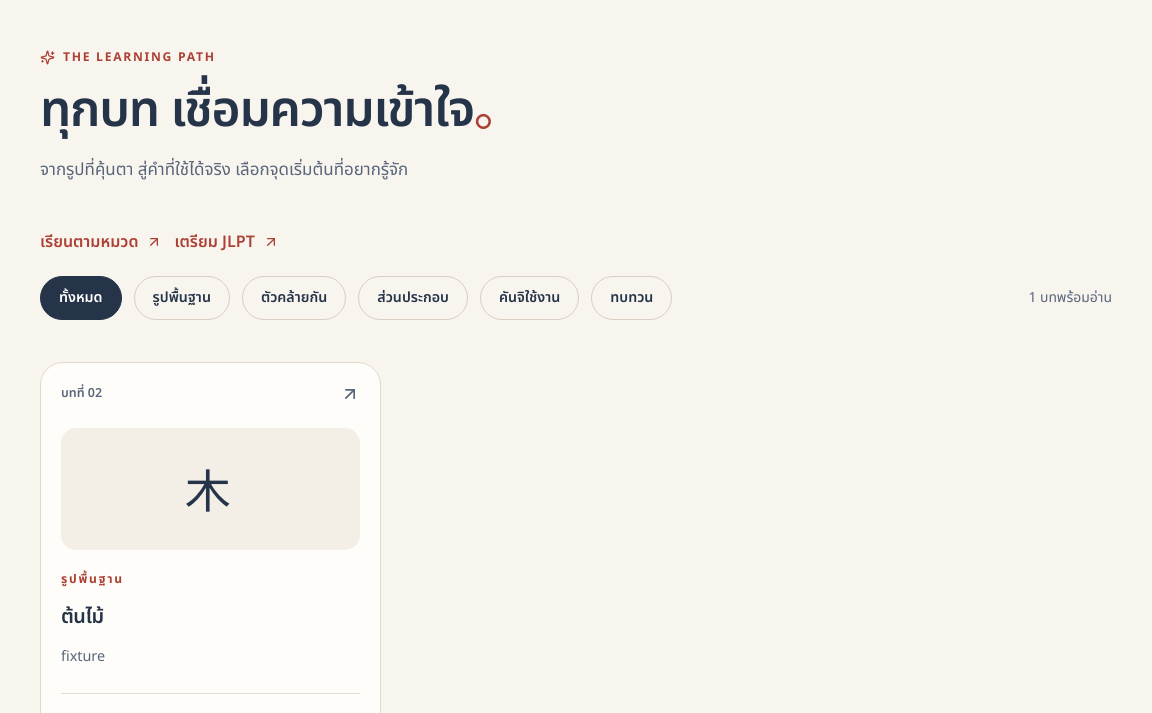
Test: uses the authorized catalog and clears an empty category without exposing review status
Expected: the heading "ต้นไม้" is shown, [61,602,104,632]
Step 1. Click the button "ทบทวน" → (632, 298), box [591,276,672,320]
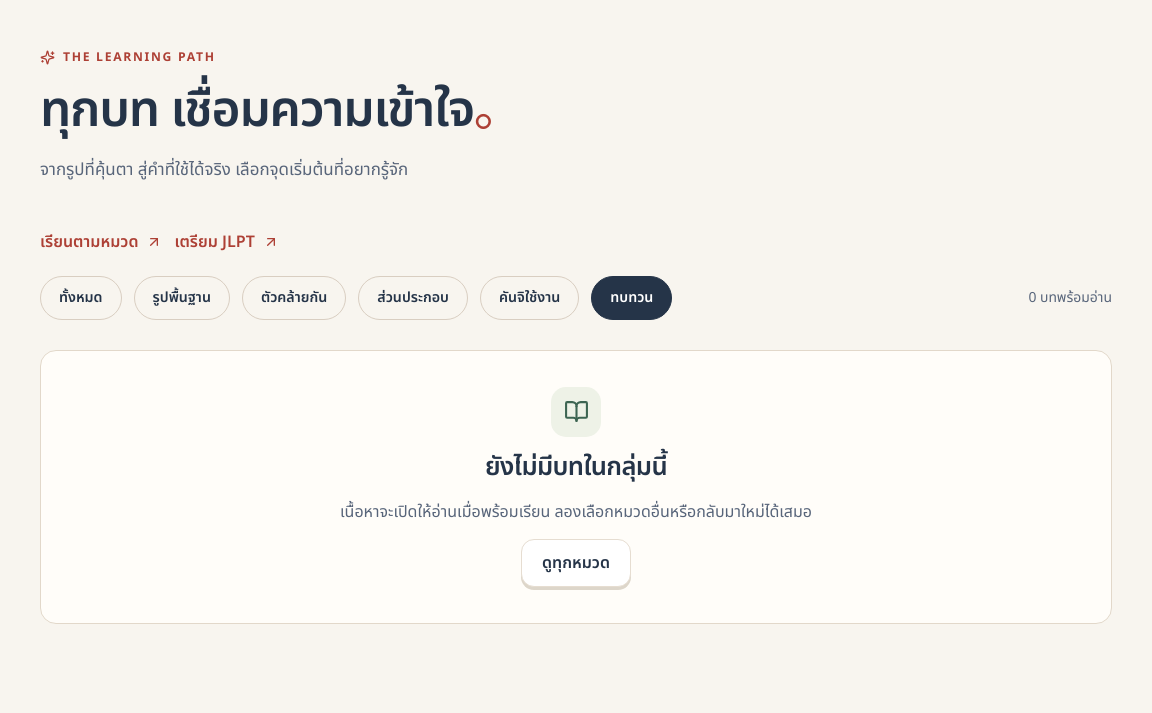
Expected: the heading "ยังไม่มีบทในกลุ่มนี้" is shown, [485,448,667,487]
Step 2. Click the button "ดูทุกหมวด" → (576, 563), box [521,539,631,587]
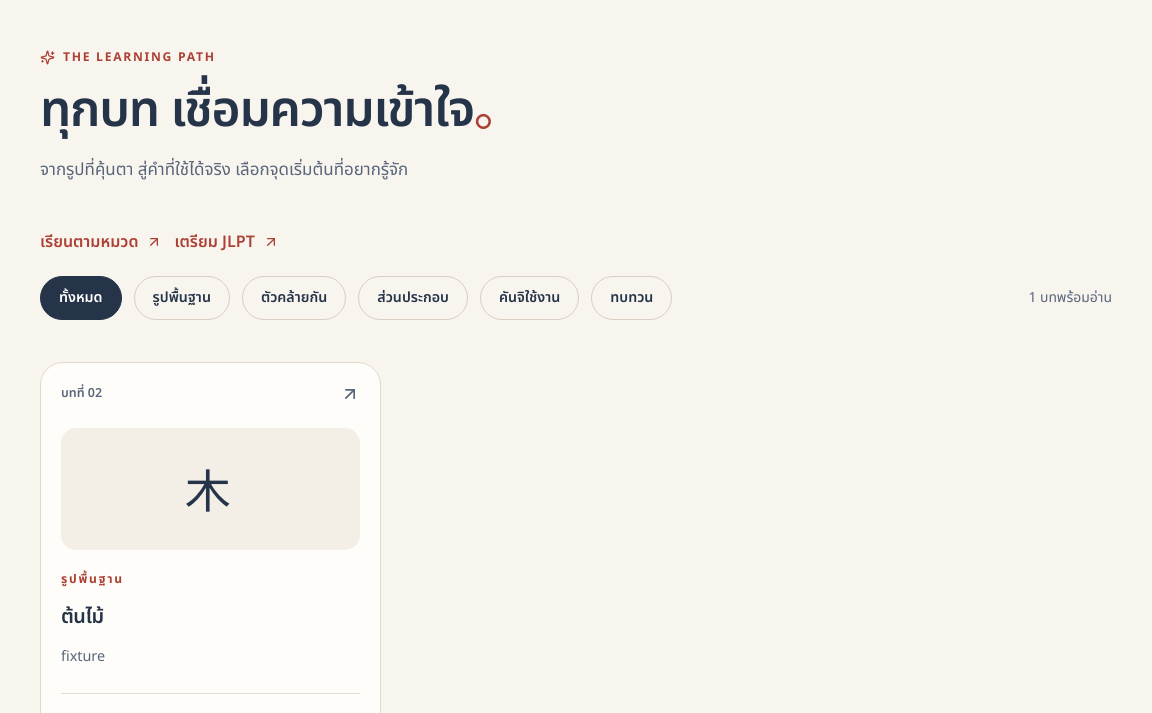
Expected: the heading "ต้นไม้" is shown, [61,602,104,632]
